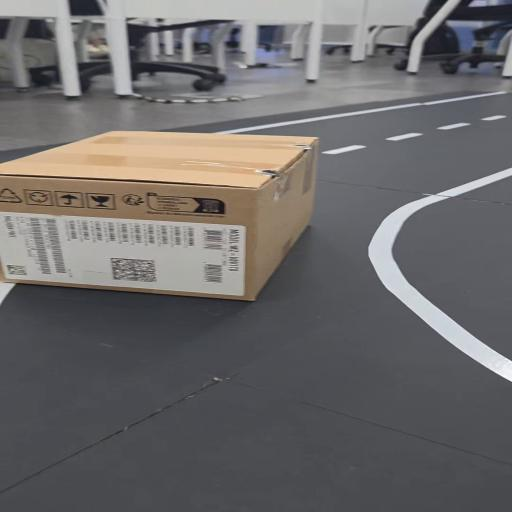Box: (3, 127, 324, 302)
